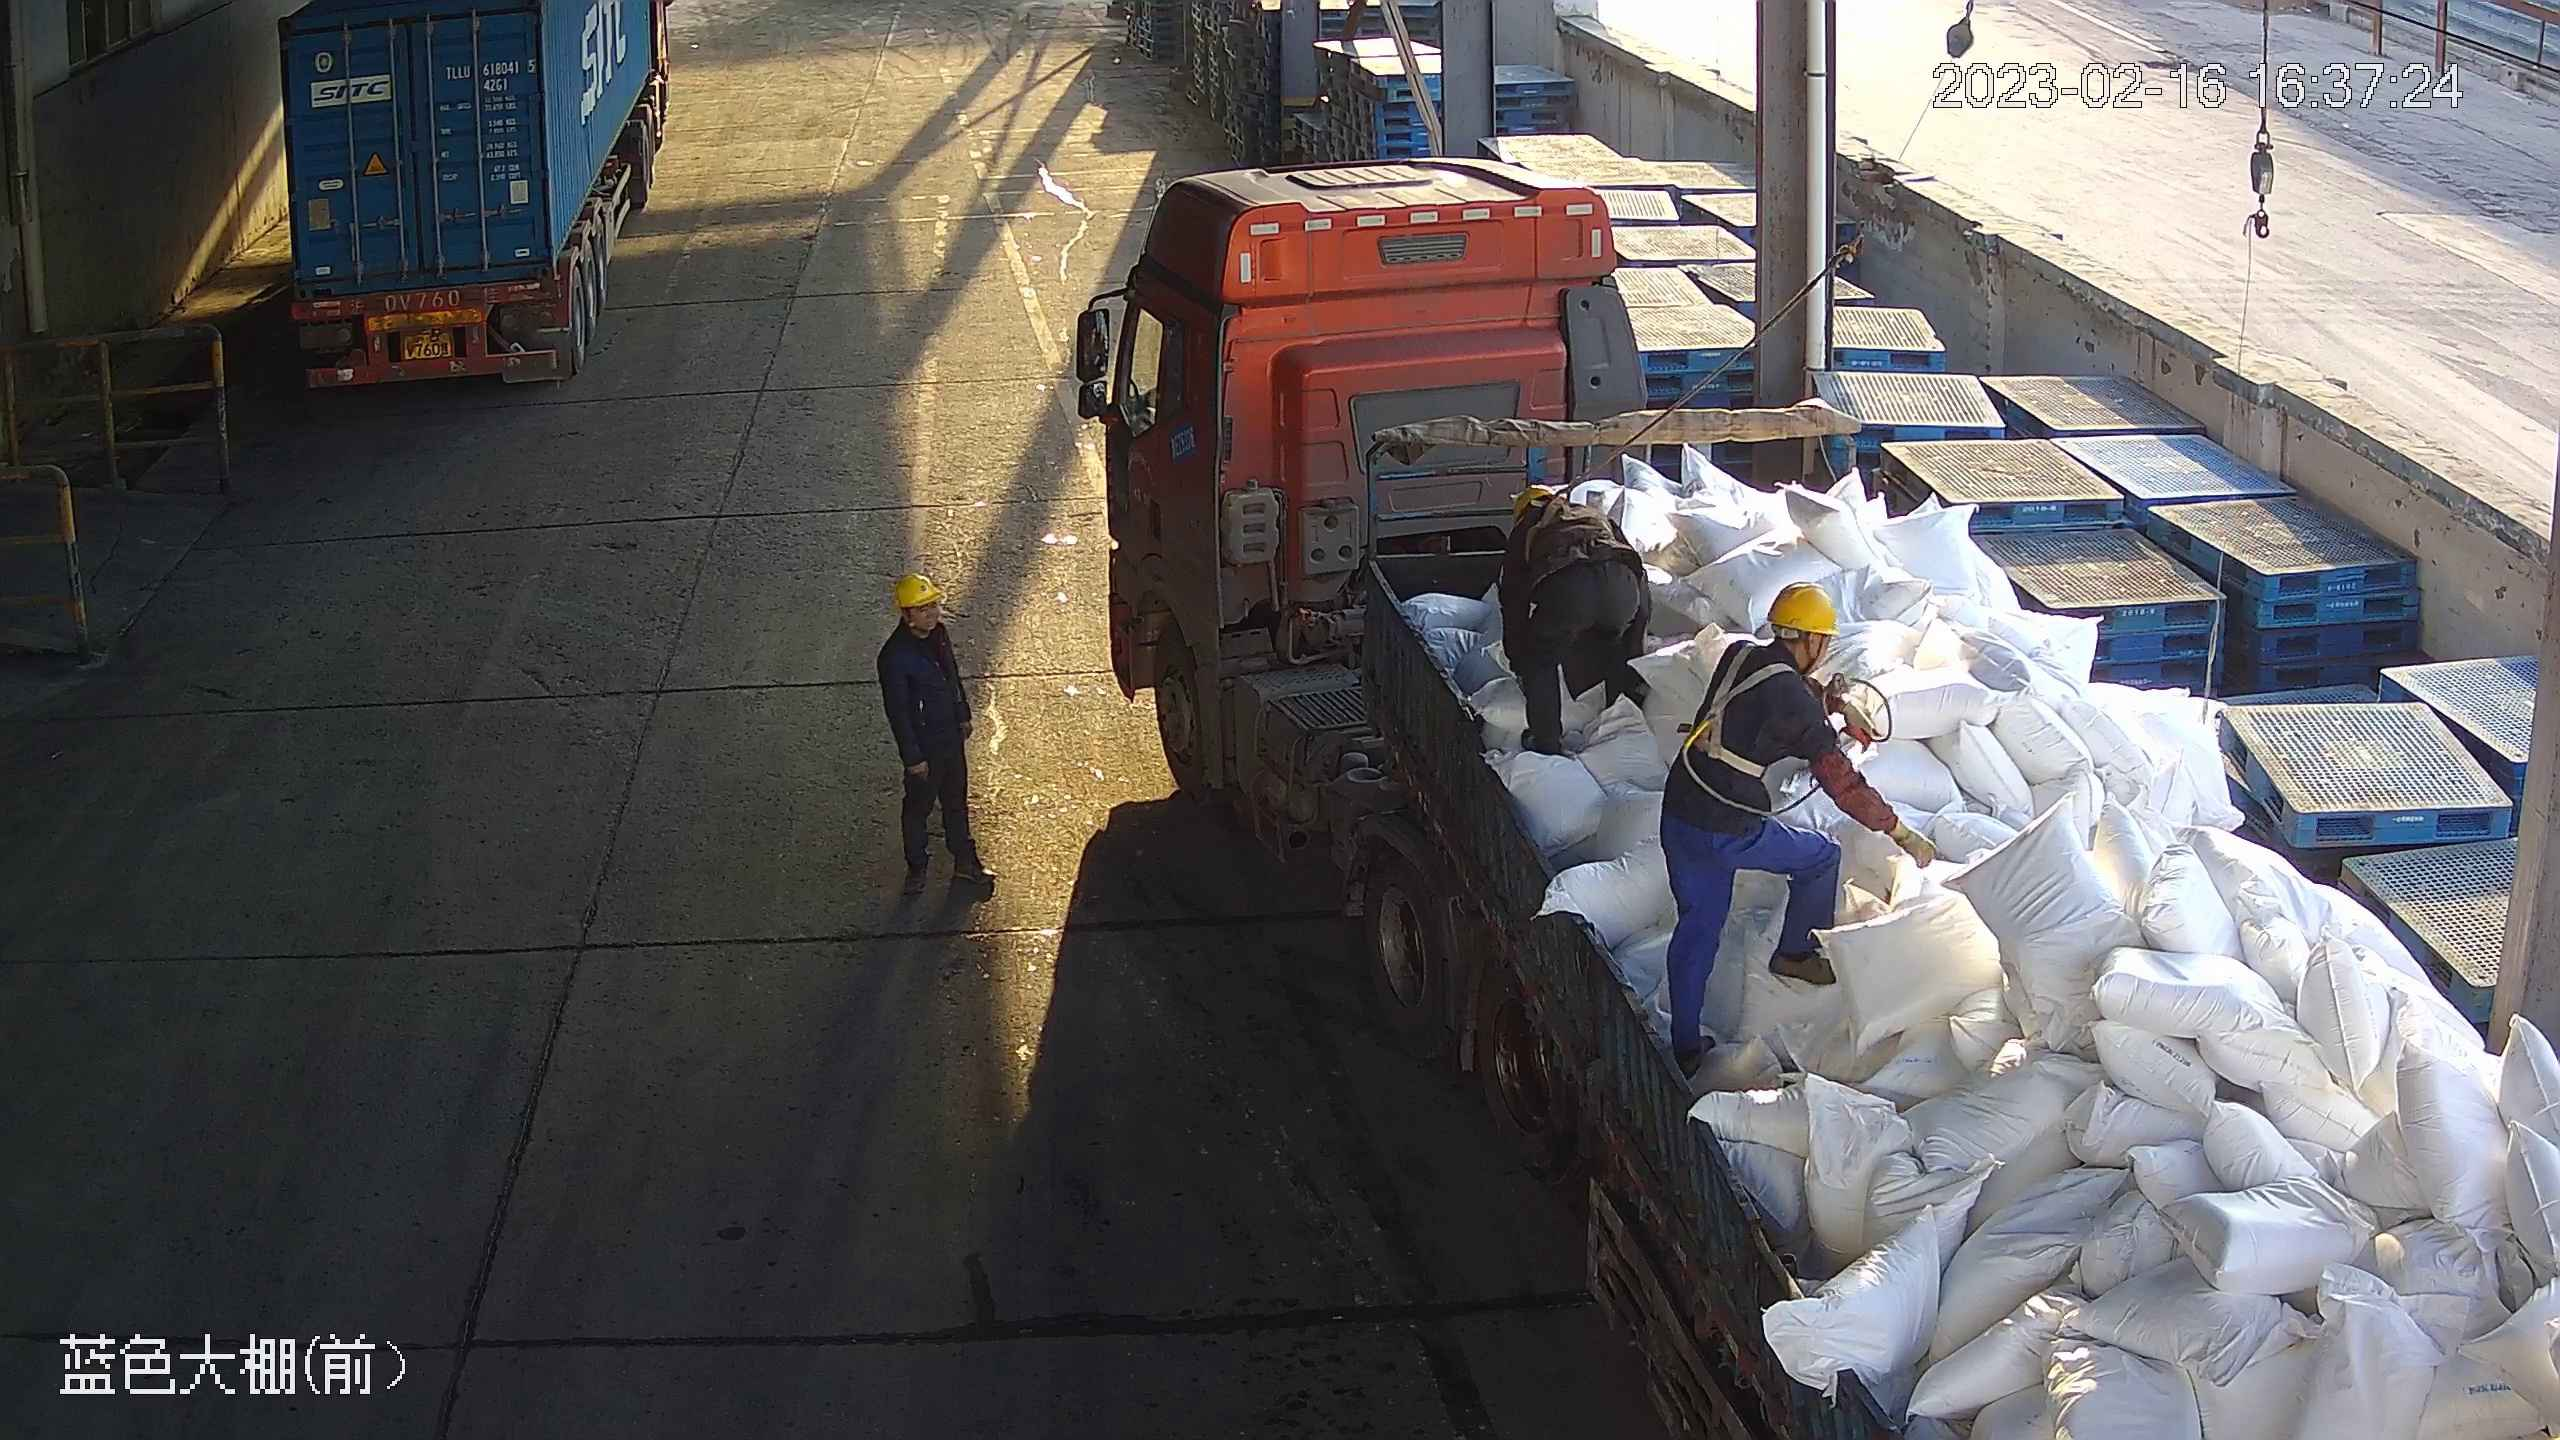belt: (1679, 659, 1785, 775), (1530, 471, 1613, 534)
head: (1725, 579, 1846, 718), (883, 572, 955, 671), (1506, 483, 1609, 534)
helmet: (1767, 579, 1844, 641), (893, 571, 944, 613)
people: (1655, 583, 1941, 1078), (1483, 483, 1653, 755), (876, 569, 1000, 895)
truck: (1081, 157, 2560, 1440), (276, 1, 676, 402)
